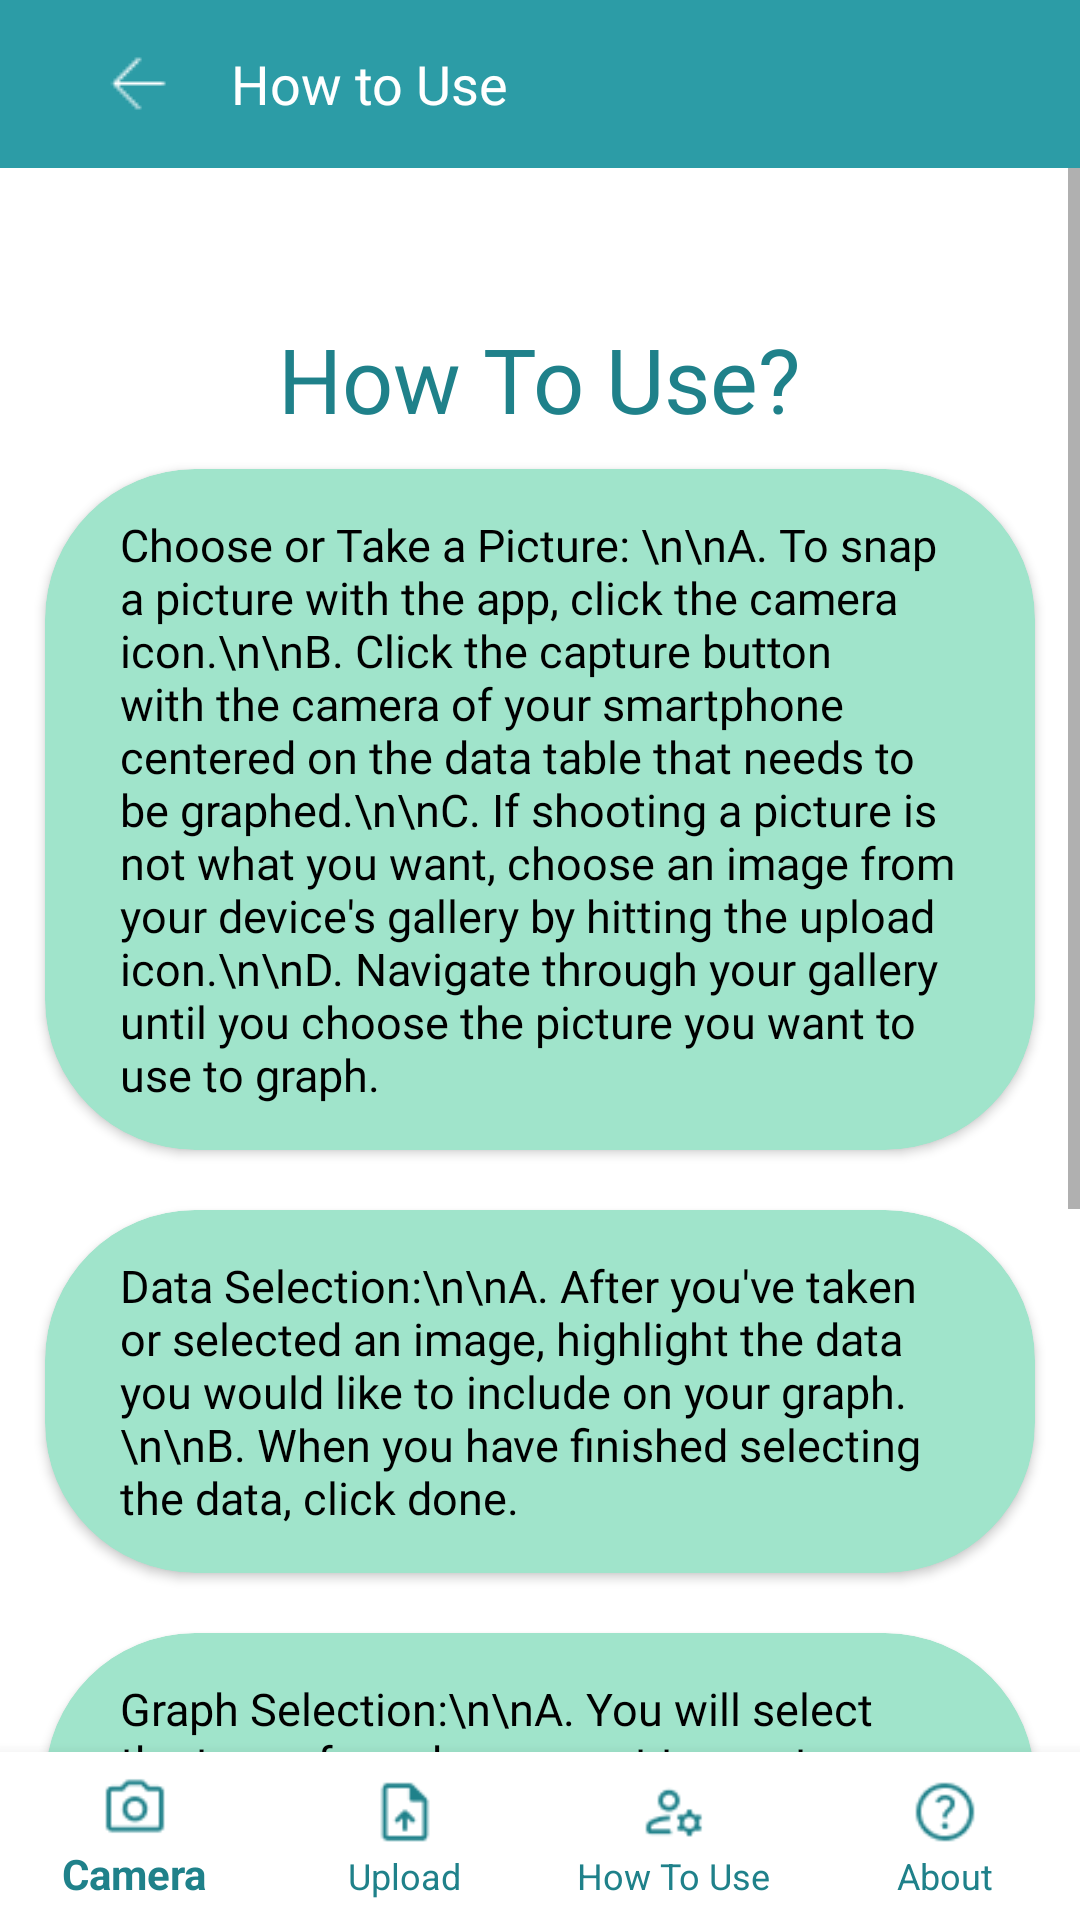

Icons on this 1080 x 1920 Android screen, each with the point to tap as [x,y]:
fback: [138,83]
